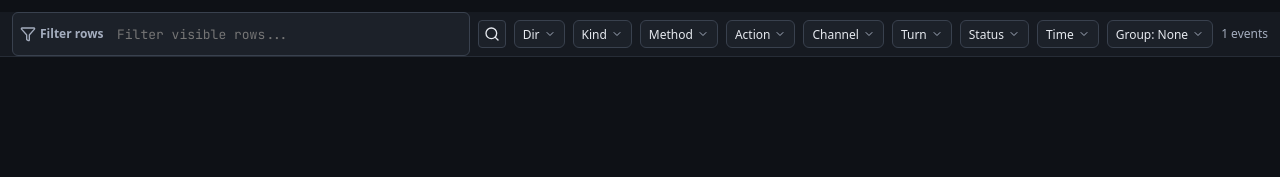
Test: FilterBar › keeps only one facet or Group popover open
What coordinates should you click on to do the following:
click the button "Method"
I would click on:
 (679, 34)
Its box is [640,20,718,48].
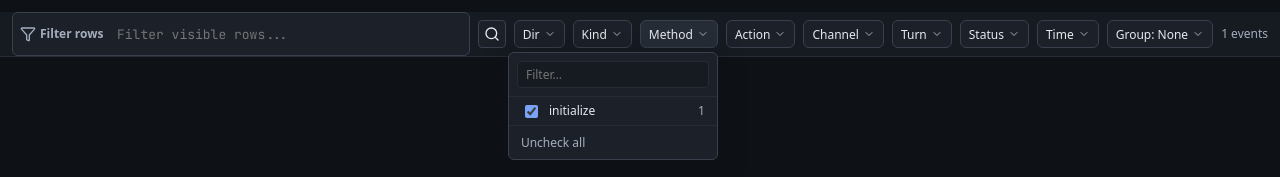
Check: the list is shown, box [508,52,718,160]
What coordinates should you click on to do the following:
click the button "Group: None"
I would click on:
 (1160, 34)
Its box is [1107,20,1213,48].
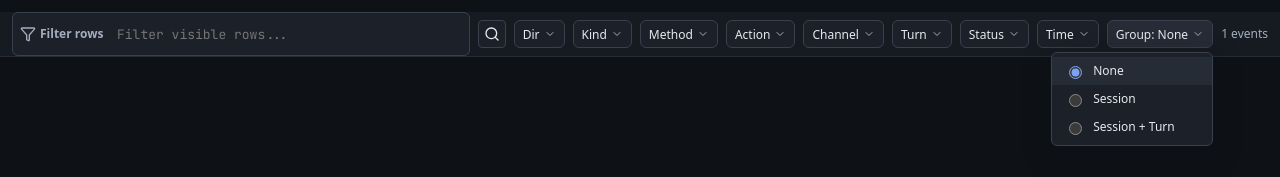
Check: the list is gone
Check: the radio button labelled "Session" is shown, box [1069,94,1082,107]
What coordinates should you click on to do the following:
click the button "Method"
I would click on:
 (679, 34)
Its box is [640,20,718,48].
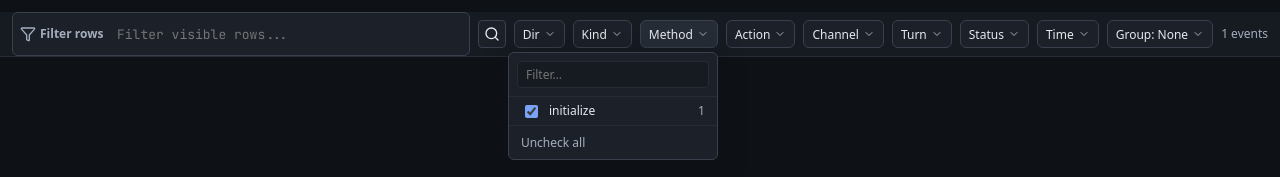
Check: the label "Session" is gone
Check: the list is shown, box [508,52,718,160]
